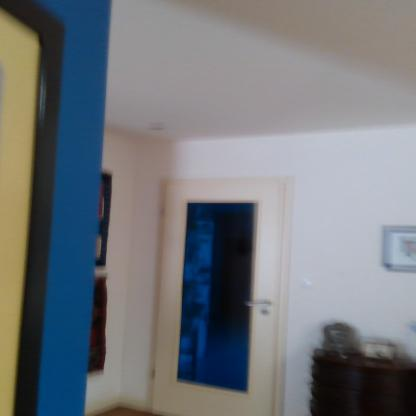door: (162, 184, 276, 416)
hinged: (160, 204, 168, 219), (149, 366, 156, 381)
lever: (245, 298, 274, 309)
